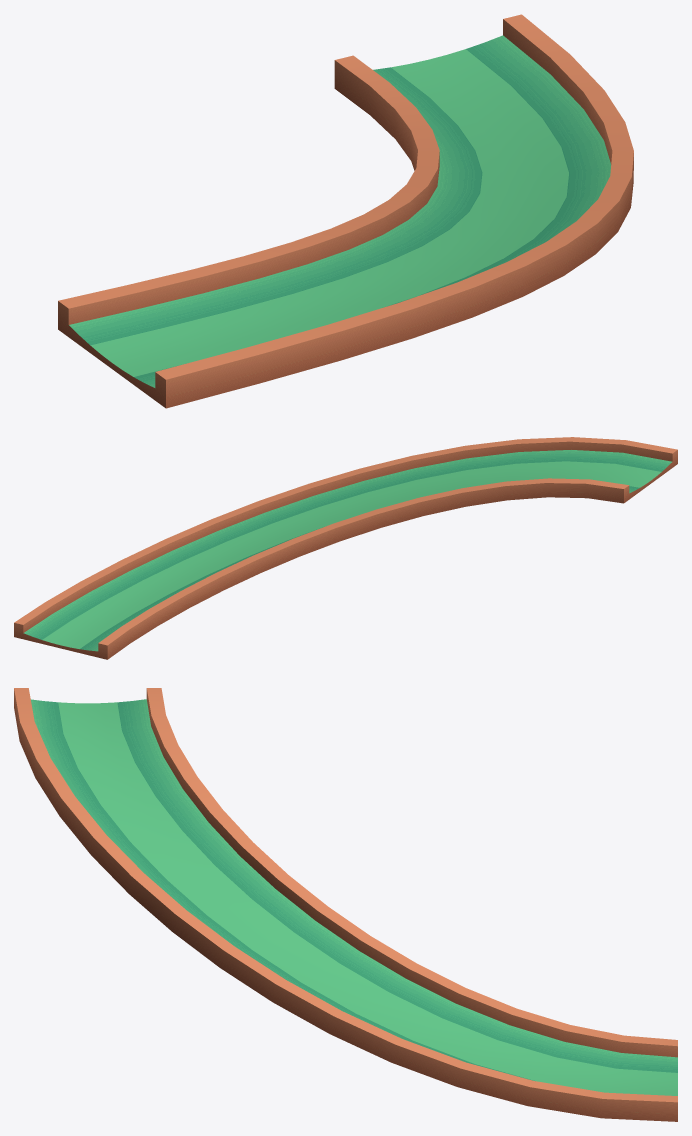
File: spline-concave-corner-large-ramp.glb
The picture shows the model from 3 angles, top to bottom: view 1: azimuth 30°, elevation 25°; view 2: azimuth 150°, elevation 25°; view 3: azimuth 270°, elevation 25°; orthographic projection. The views are drawn at different scales.
Parts seen in each view (by area): view 1: spline-concave-corner-large-ramp; view 2: spline-concave-corner-large-ramp; view 3: spline-concave-corner-large-ramp.
Boxes of the visible parts, x1,y1,x2,y2 form: spline-concave-corner-large-ramp: (58, 14, 633, 408); spline-concave-corner-large-ramp: (14, 437, 677, 659); spline-concave-corner-large-ramp: (14, 688, 677, 1121).
Size of the model in its own units: 4.5 by 1.15 by 4.5.
Materials: 1 (1 with a texture image).
